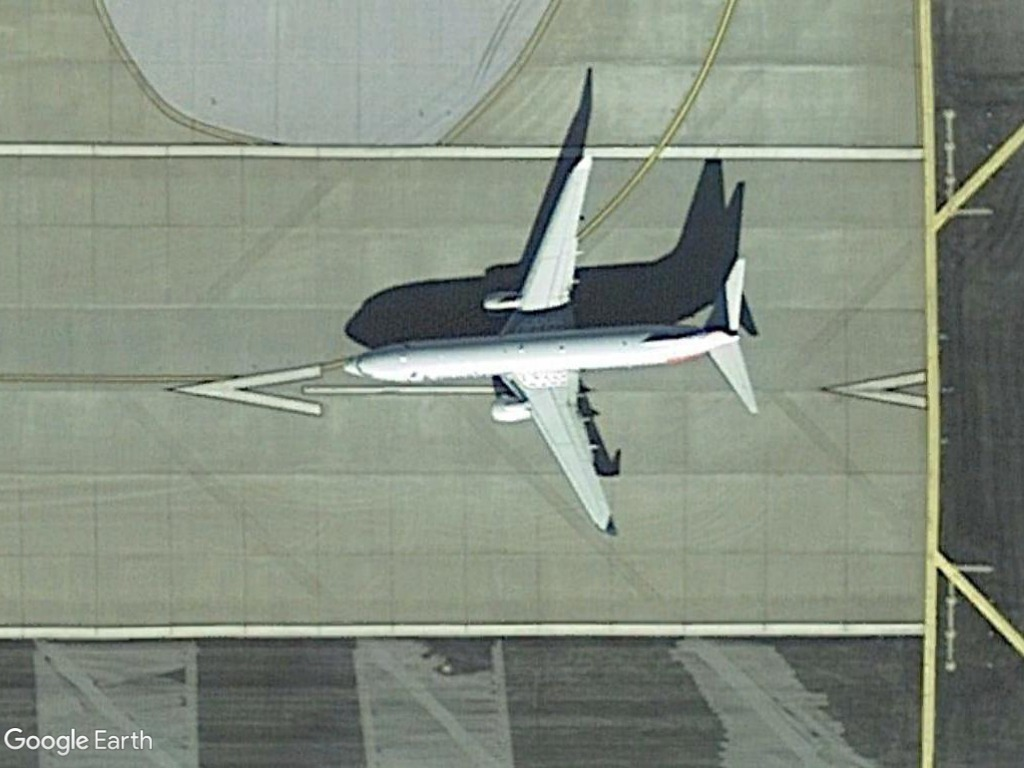airliner: (334, 145, 760, 544)
